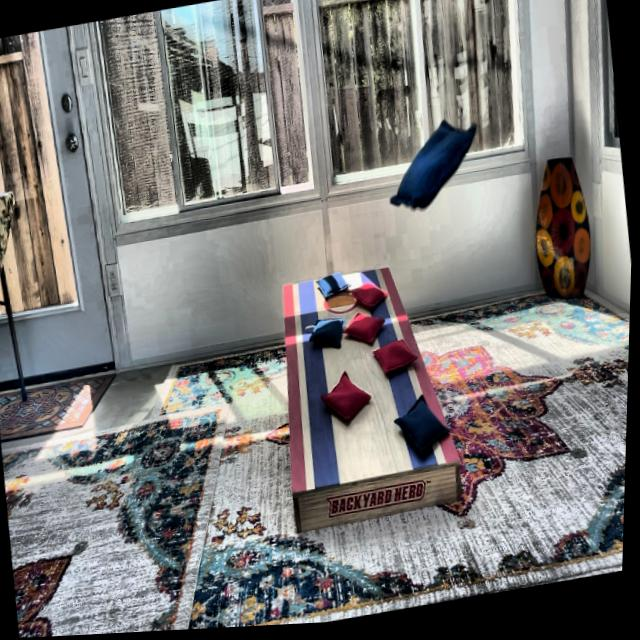blue-bean-bag: (381, 117, 485, 218), (390, 394, 453, 464), (308, 316, 348, 354), (315, 274, 353, 303)
board: (275, 264, 431, 497)
hole: (324, 290, 358, 317)
red-bean-bag: (318, 368, 376, 427), (343, 311, 388, 352), (373, 340, 420, 379), (351, 282, 390, 313)
